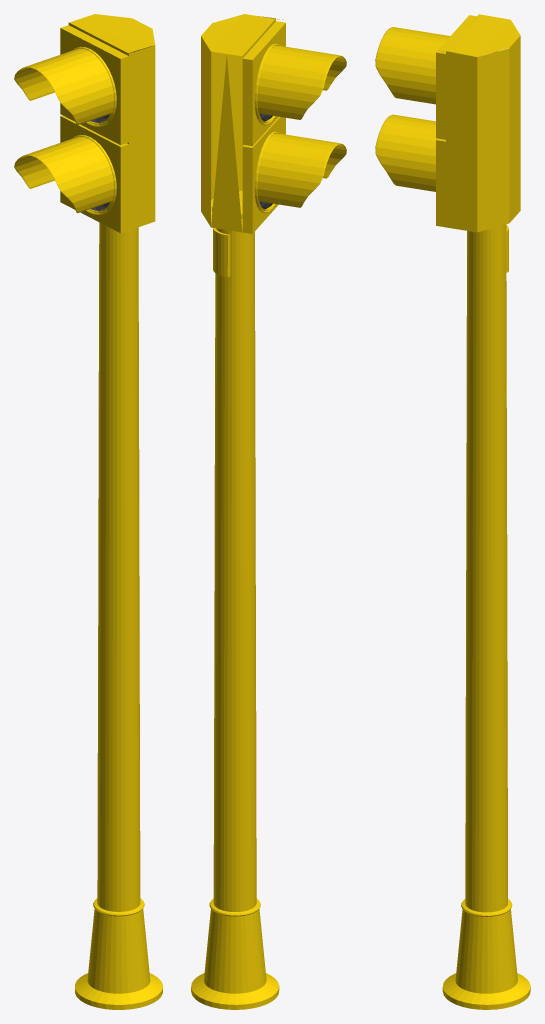
Rendered from w_highway_traffic_signals_cycle.gltf.
3 renders of one model, left to right at view 1: azimuth 30°, elevation 25°; view 2: azimuth 150°, elevation 25°; view 3: azimuth 330°, elevation 25°, orthographic.
Parts seen in each view (by area): view 1: semaforo (SU 2017); view 2: semaforo (SU 2017); view 3: semaforo (SU 2017).
Part boxes in pixels (box(x1,y1,x2,y2)): semaforo (SU 2017): box(14, 14, 162, 1009); semaforo (SU 2017): box(191, 14, 346, 1009); semaforo (SU 2017): box(375, 14, 530, 1009).
Bounding box in the file's own units: 0.3891 × 2.66 × 0.2589.
3 materials, 2 textured.
